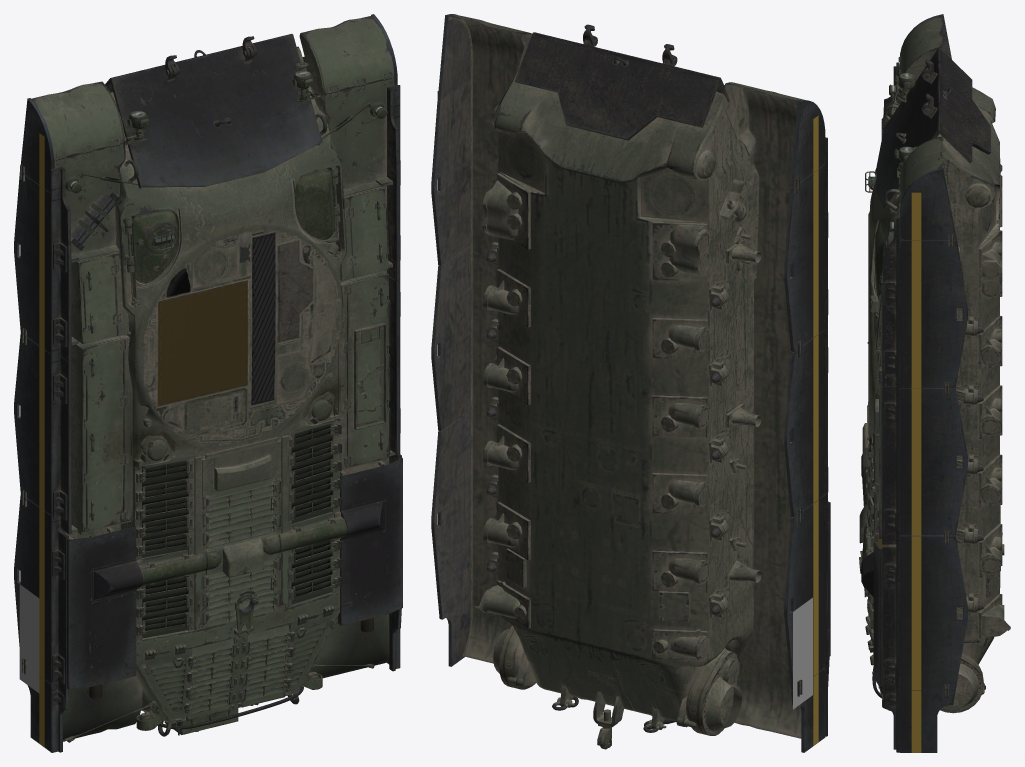
Rendered from Hull.glb.
3 views of the same model, side by side, from view 1: azimuth 30°, elevation 25°; view 2: azimuth 150°, elevation 25°; view 3: azimuth 270°, elevation 25° (orthographic). The views are drawn at different scales.
Visible parts, largest first — view 1: set_0_group_0, set_0_group_1; view 2: set_0_group_0, set_0_group_1; view 3: set_0_group_0, set_0_group_1.
Part boxes in pixels (x1,y1,x2,y2): set_0_group_0: (14, 14, 402, 752); set_0_group_1: (19, 133, 44, 747); set_0_group_0: (431, 14, 830, 752); set_0_group_1: (793, 115, 818, 745); set_0_group_0: (859, 14, 1010, 752); set_0_group_1: (911, 192, 921, 752).
Size of the model in its own units: 3.61 by 6.66 by 1.48.
2 materials, 2 textured.
